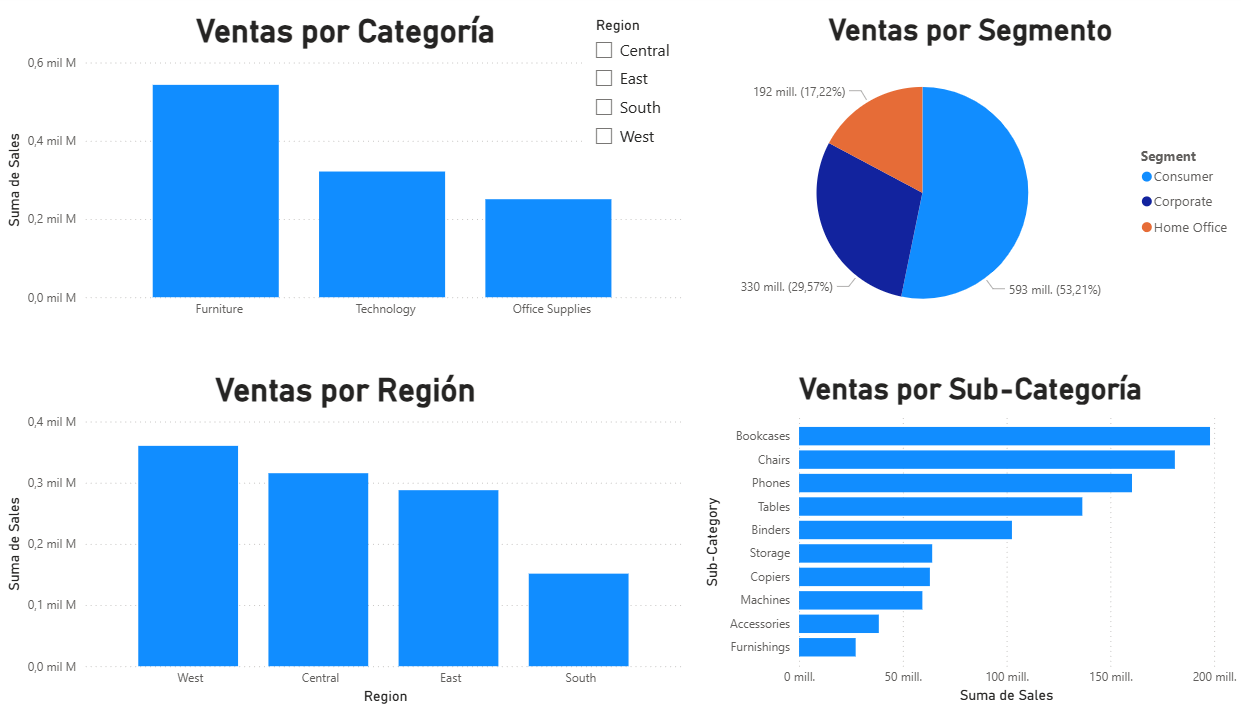

This screenshot's page, from the dashboard's own definition file:
{"tool":"powerbi","page":{"name":"Página 1","canvas":[1280,720],"ordinal":0},"visuals":[{"type":"columnChart","title":"Ventas por Categoría","fields":{"Category":["train.Category"],"Y":["Sum(train.Sales)"]},"box":[26.9,16.8,695.4,330.9],"z":0},{"type":"columnChart","title":"Ventas por Región","fields":{"Category":["train.Region"],"Y":["Sum(train.Sales)"]},"box":[26.9,379.6,695.4,341],"z":1000},{"type":"pieChart","title":"Ventas por Segmento","fields":{"Category":["train.Segment"],"Y":["Sum(train.Sales)"]},"box":[732,17,548,331],"z":2000},{"type":"barChart","title":"Ventas por Sub-Categoría","fields":{"Category":["train.Sub-Category"],"Y":["Sum(train.Sales)"]},"box":[732,380,548,340],"z":3000},{"type":"slicer","fields":{"Values":["train.Region"]},"box":[614.8,17.2,166.6,157.5],"z":3001}]}

Visuals, with their boxes in screenshot pixels (x1, y1, x2, y2), scaled from the page's 1280x720 canvas onto the 1241x704 screenshot:
"Ventas por Categoría" columnChart: 26/16/700/340
"Ventas por Región" columnChart: 26/371/700/703
"Ventas por Segmento" pieChart: 710/17/1240/340
"Ventas por Sub-Categoría" barChart: 710/372/1240/703
slicer - train.Region: 596/17/758/171
